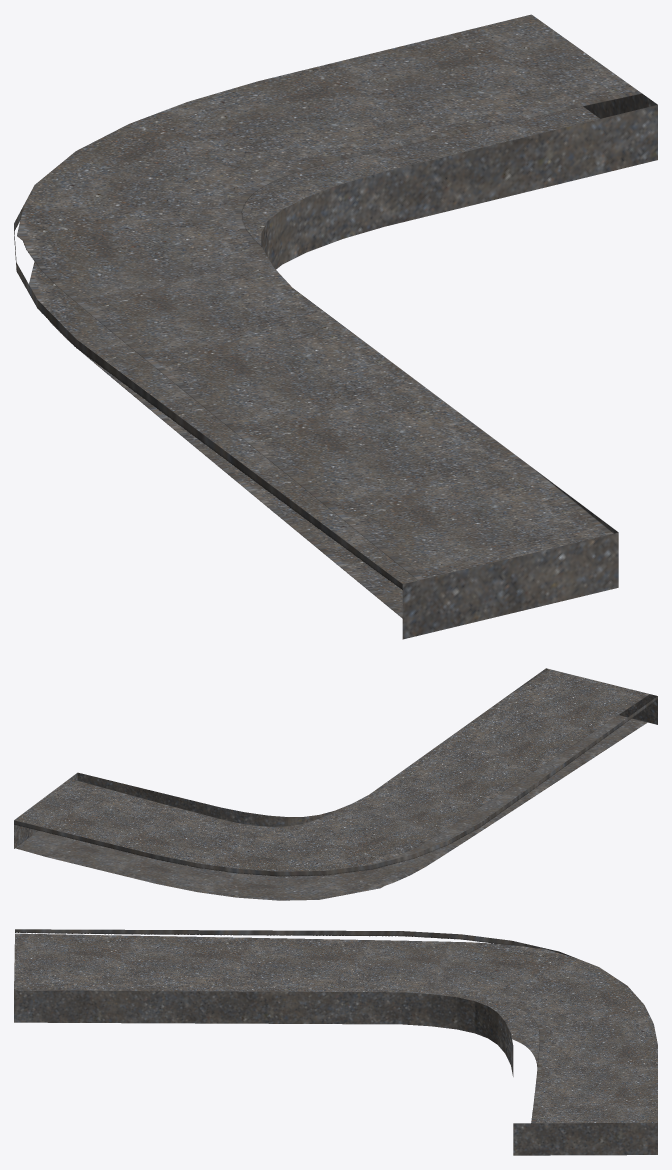
Rendered from road_right_turn.fbx.
3 renders of one model, top to bottom at view 1: azimuth 30°, elevation 25°; view 2: azimuth 150°, elevation 25°; view 3: azimuth 270°, elevation 25°, orthographic. The views are drawn at different scales.
Parts seen in each view (by area): view 1: dirt_road_right; view 2: dirt_road_right; view 3: dirt_road_right.
Part boxes in pixels (<box>): dirt_road_right: <box>14,14,657,639</box>; dirt_road_right: <box>14,668,657,900</box>; dirt_road_right: <box>14,929,657,1155</box>.
Size of the model in its own units: 2656 by 205 by 3724.
